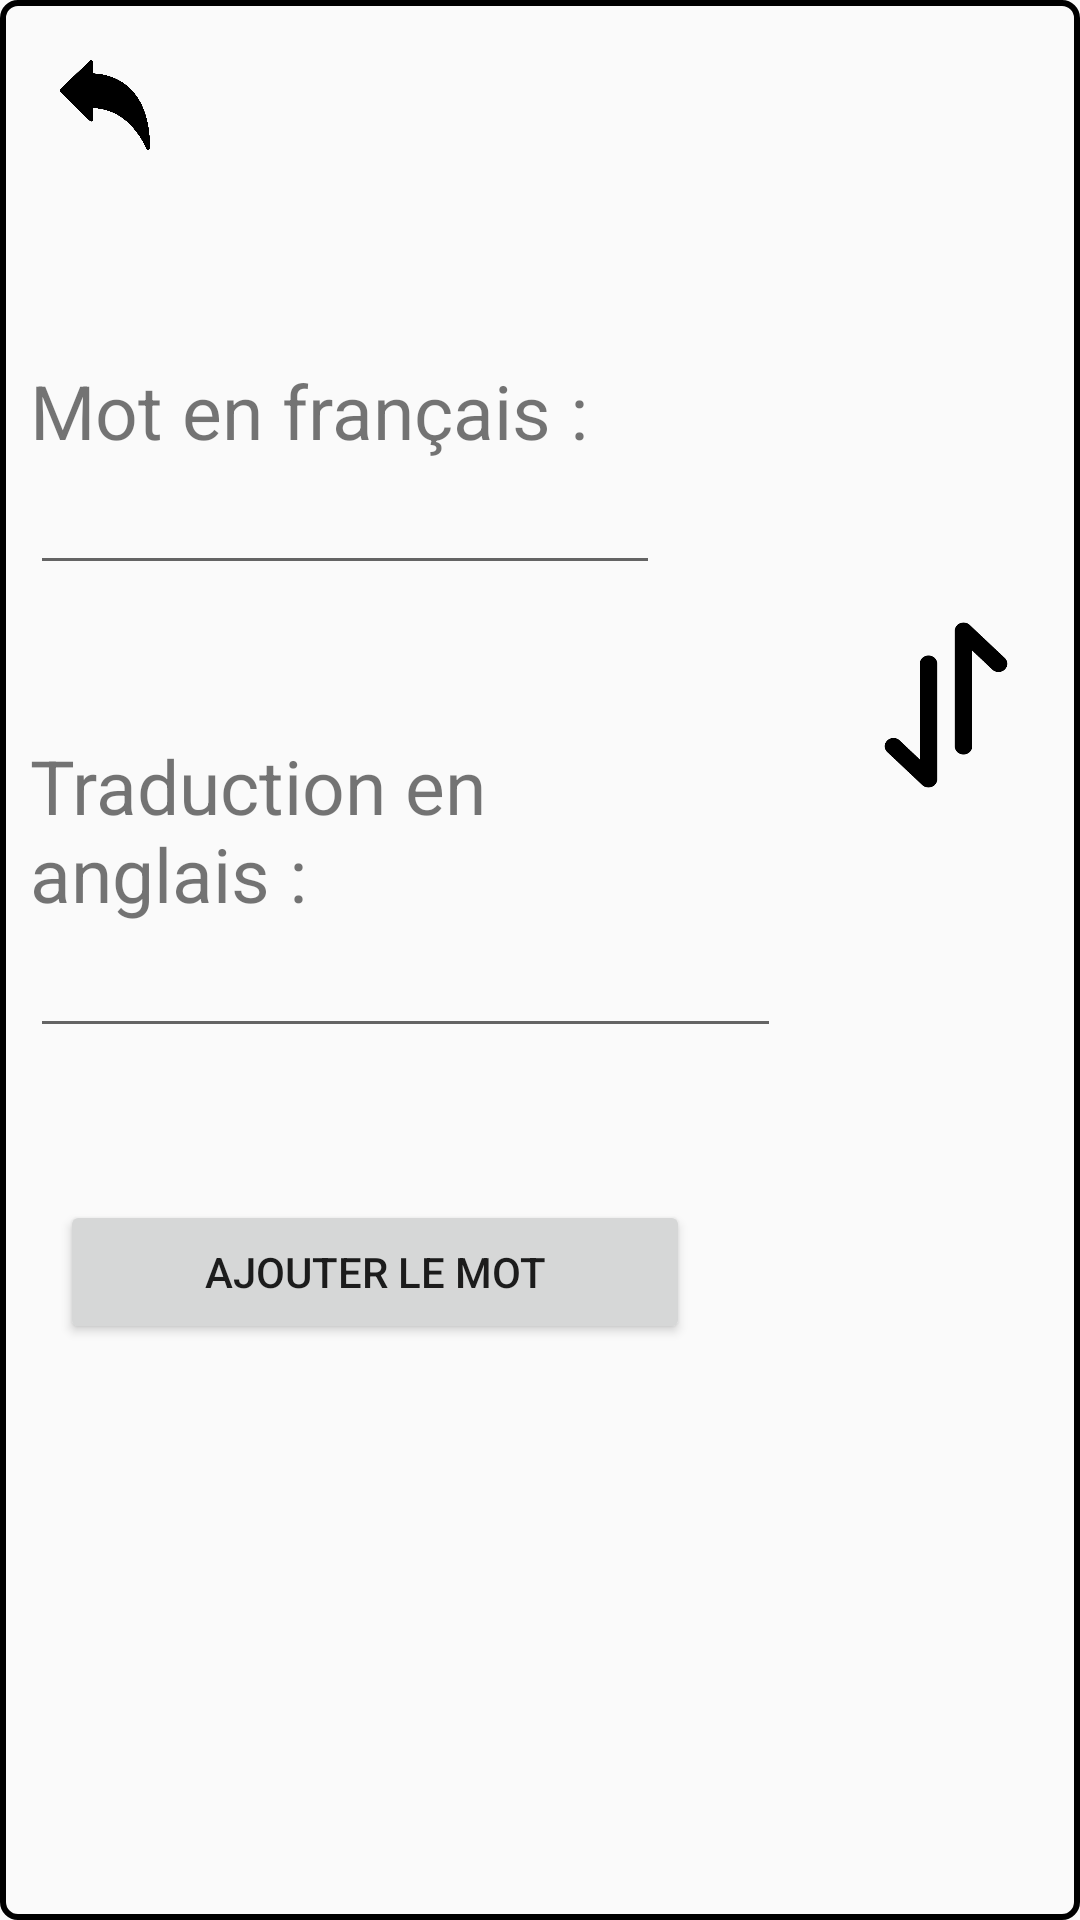

Point at icon controls on the screen. Image size 1080px×1920px, points as (x=x, y=y).
back arrow: (x=105, y=105)
